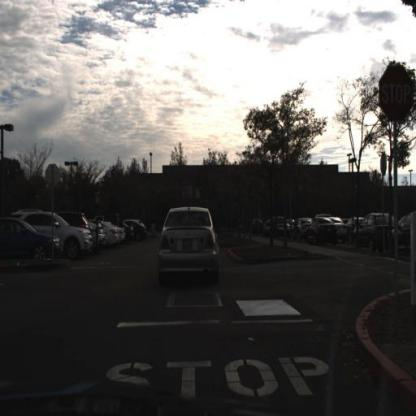car: (157, 202, 225, 288), (1, 214, 64, 268), (47, 208, 93, 262), (352, 211, 394, 248), (306, 216, 338, 249), (400, 213, 416, 261), (92, 216, 107, 256), (66, 209, 90, 230), (104, 221, 120, 250), (132, 218, 150, 243), (292, 219, 309, 242), (124, 224, 136, 245), (120, 224, 128, 246)
